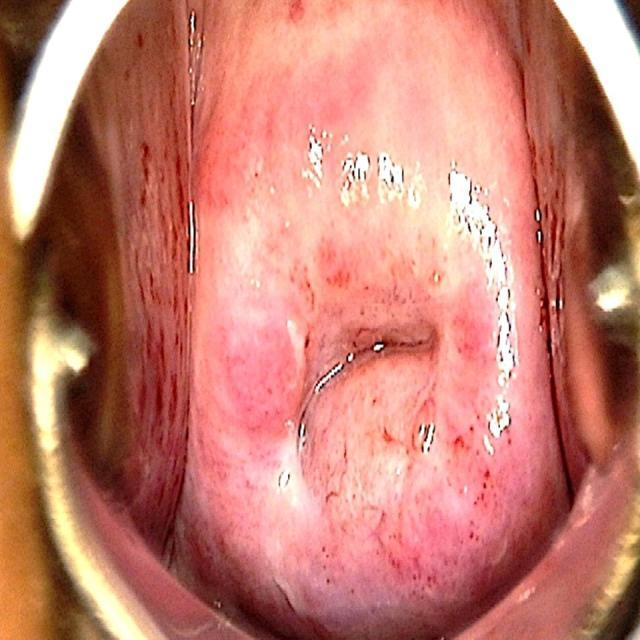cervical_lesion: (184, 92, 549, 629)
